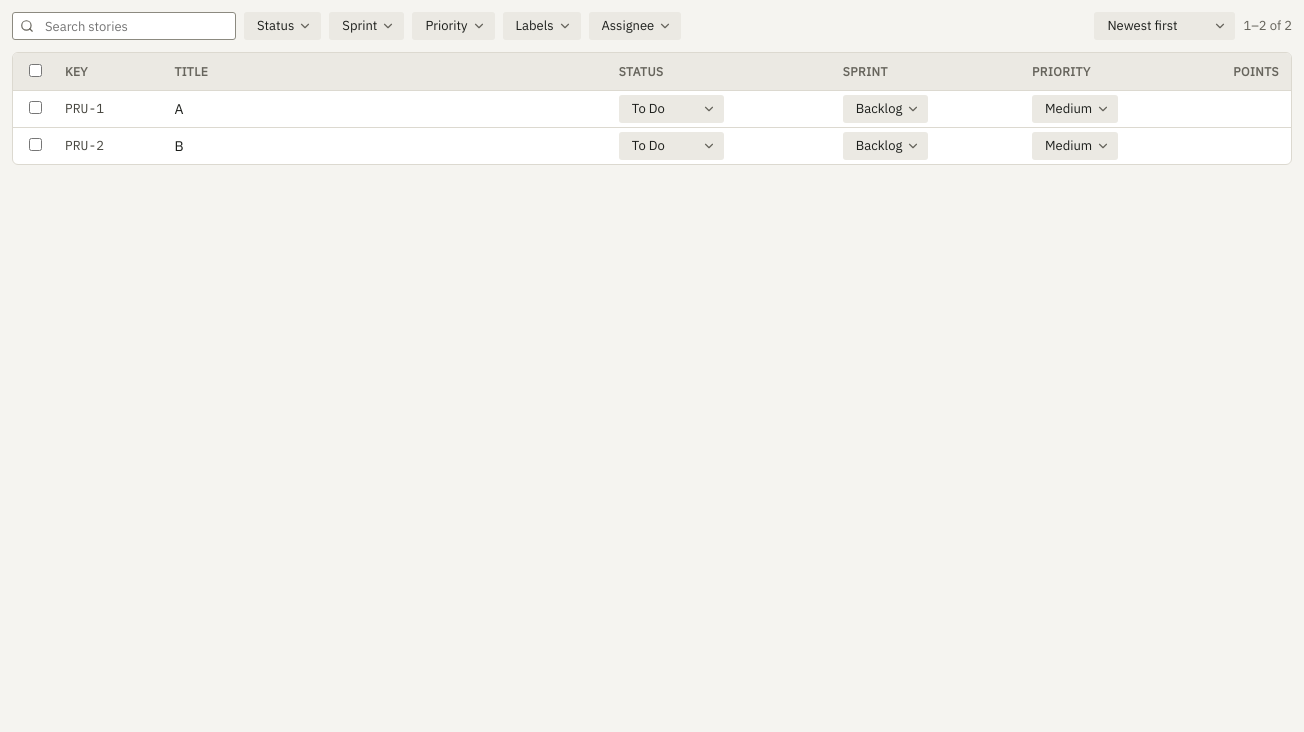
BacklogView › bulk actions › says how many failed when only some of them could be changed
The width and height of the screenshot is (1304, 732).
Click the checkbox named "Select PRU-1".
click(36, 108)  # box x1=29 y1=101 x2=42 y2=114
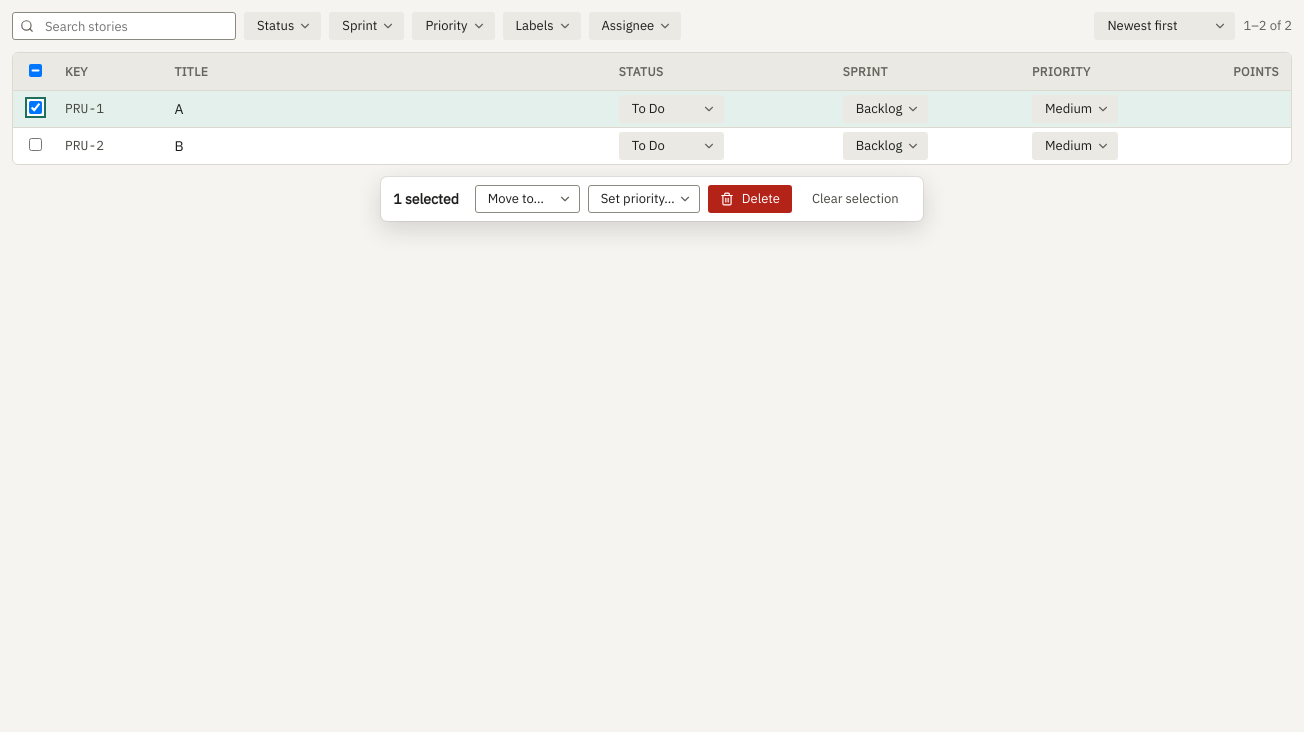
Click the checkbox named "Select PRU-2".
click(36, 144)  # box x1=29 y1=138 x2=42 y2=151
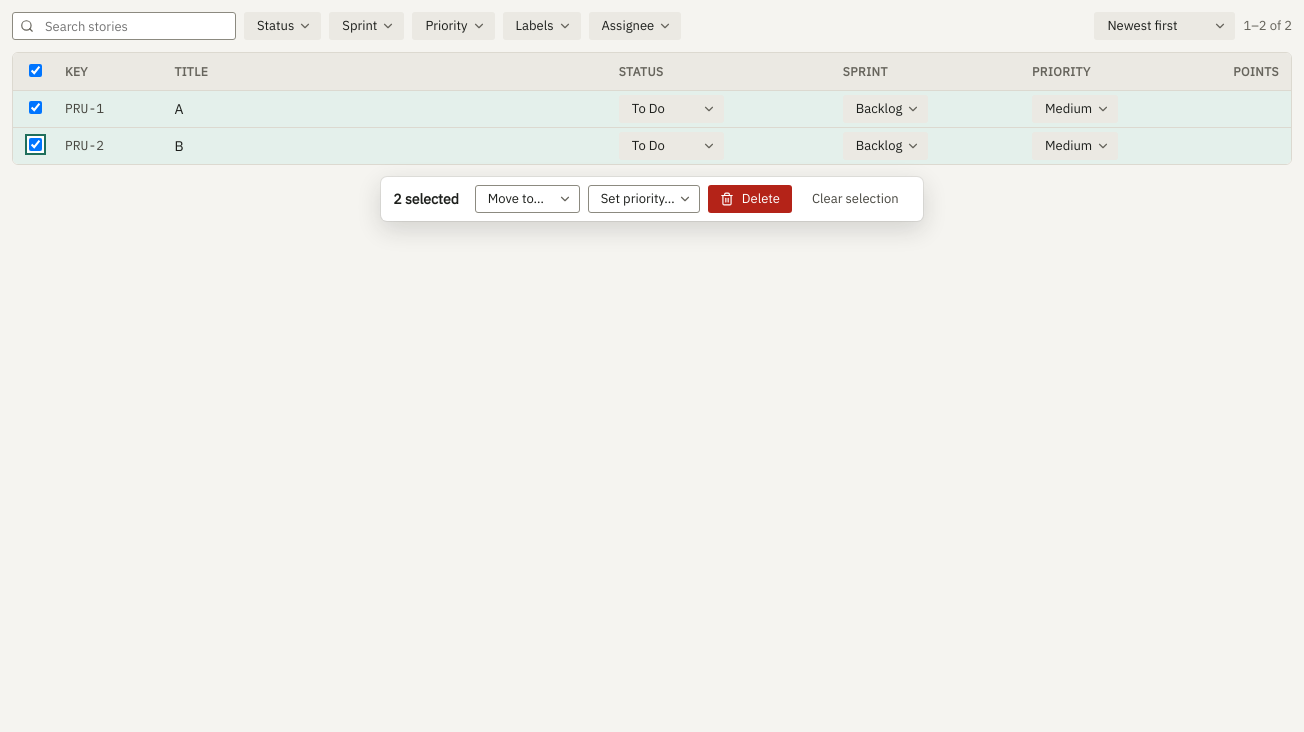
Select "High" in the dropdown named "Set priority…" at (644, 199), box x1=588 y1=185 x2=700 y2=213
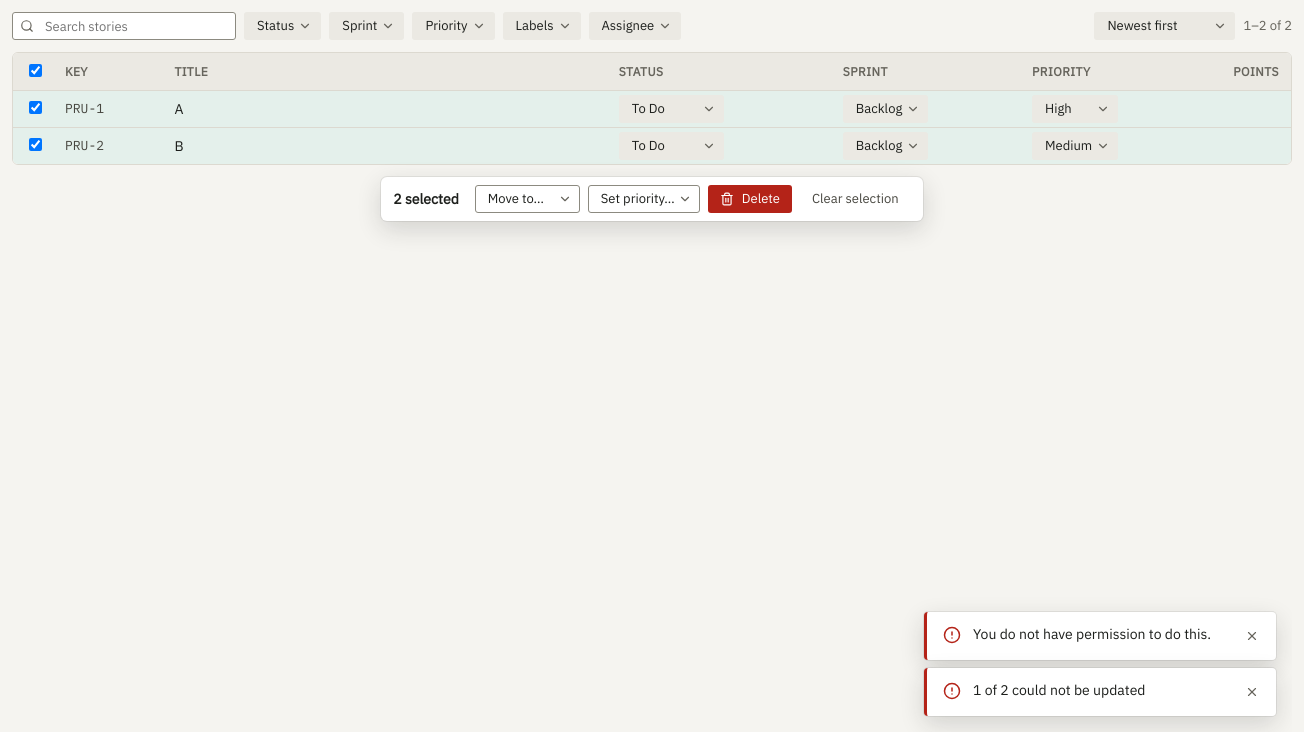
Now the text "1 of 2 could not be updated" is shown, box x1=973 y1=681 x2=1145 y2=699
